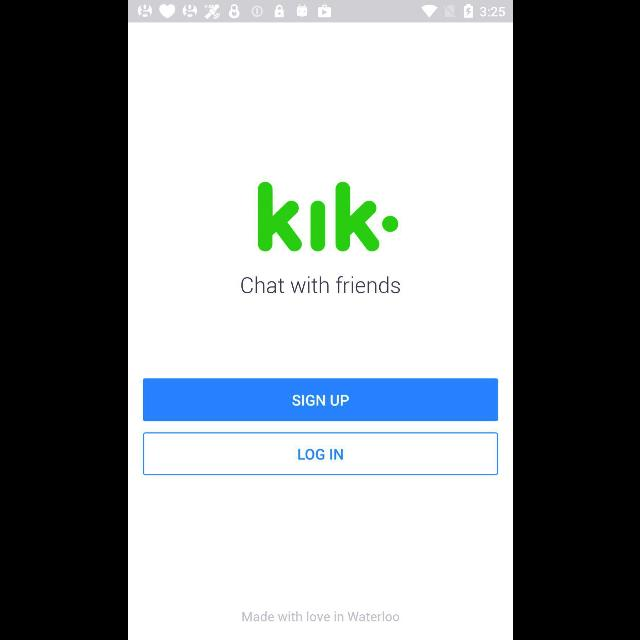image: (256, 182, 398, 252)
text: (240, 276, 400, 294), (241, 610, 399, 622)
textbutton: (142, 432, 498, 476), (142, 378, 498, 422)
uppertaskbar: (128, 1, 512, 23)
